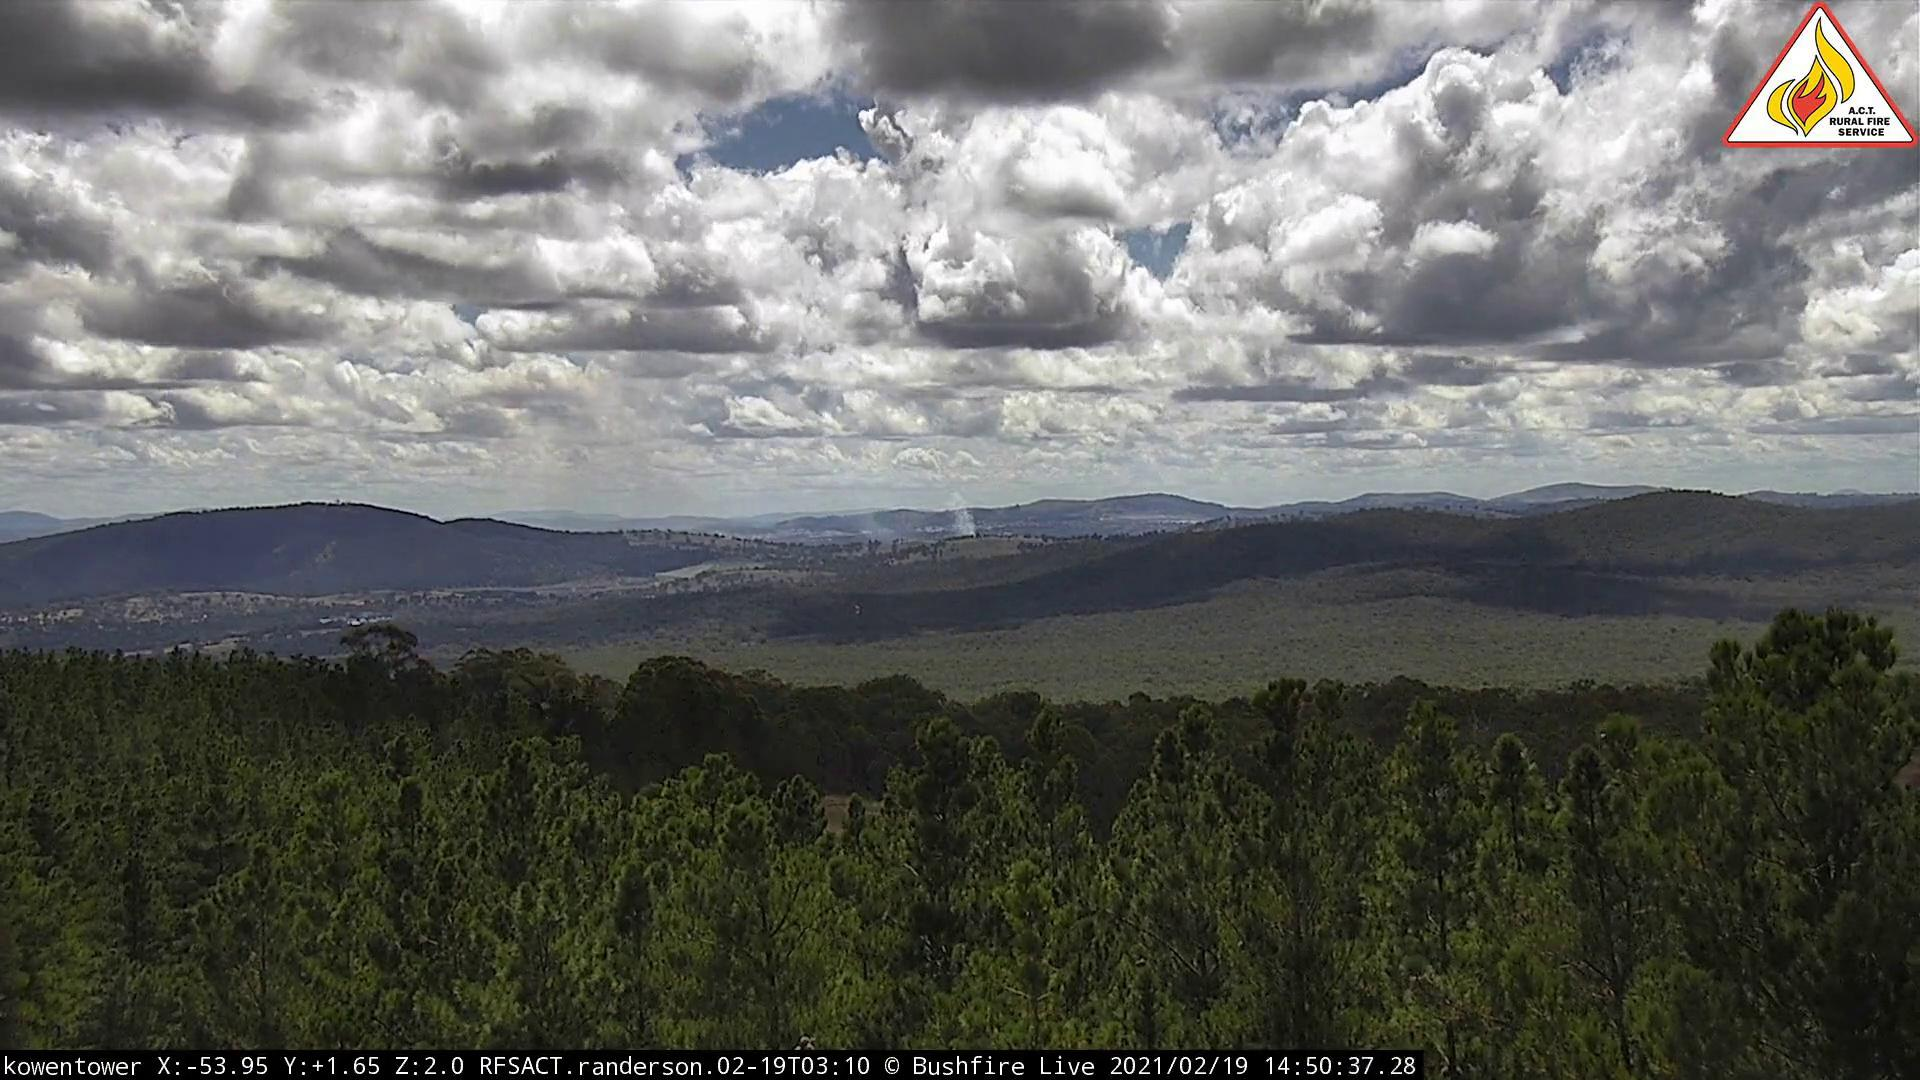Smoke: (558, 460, 981, 547)
